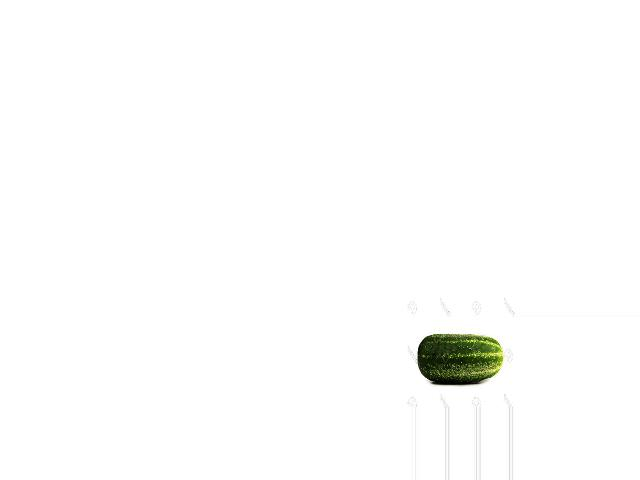cucumber: (416, 334, 502, 383)
